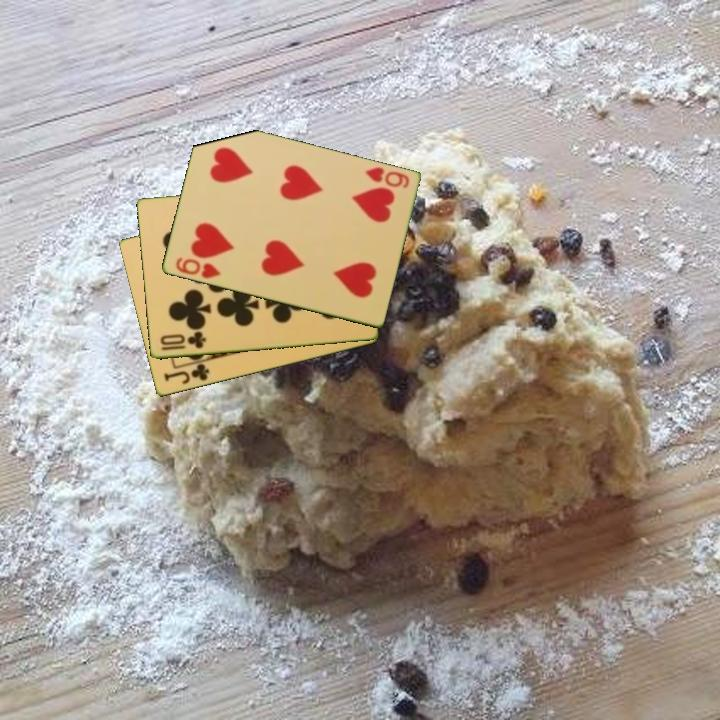10c: (156, 329, 209, 353)
6h: (172, 254, 223, 282), (361, 164, 412, 191)
Jc: (160, 360, 212, 388)
